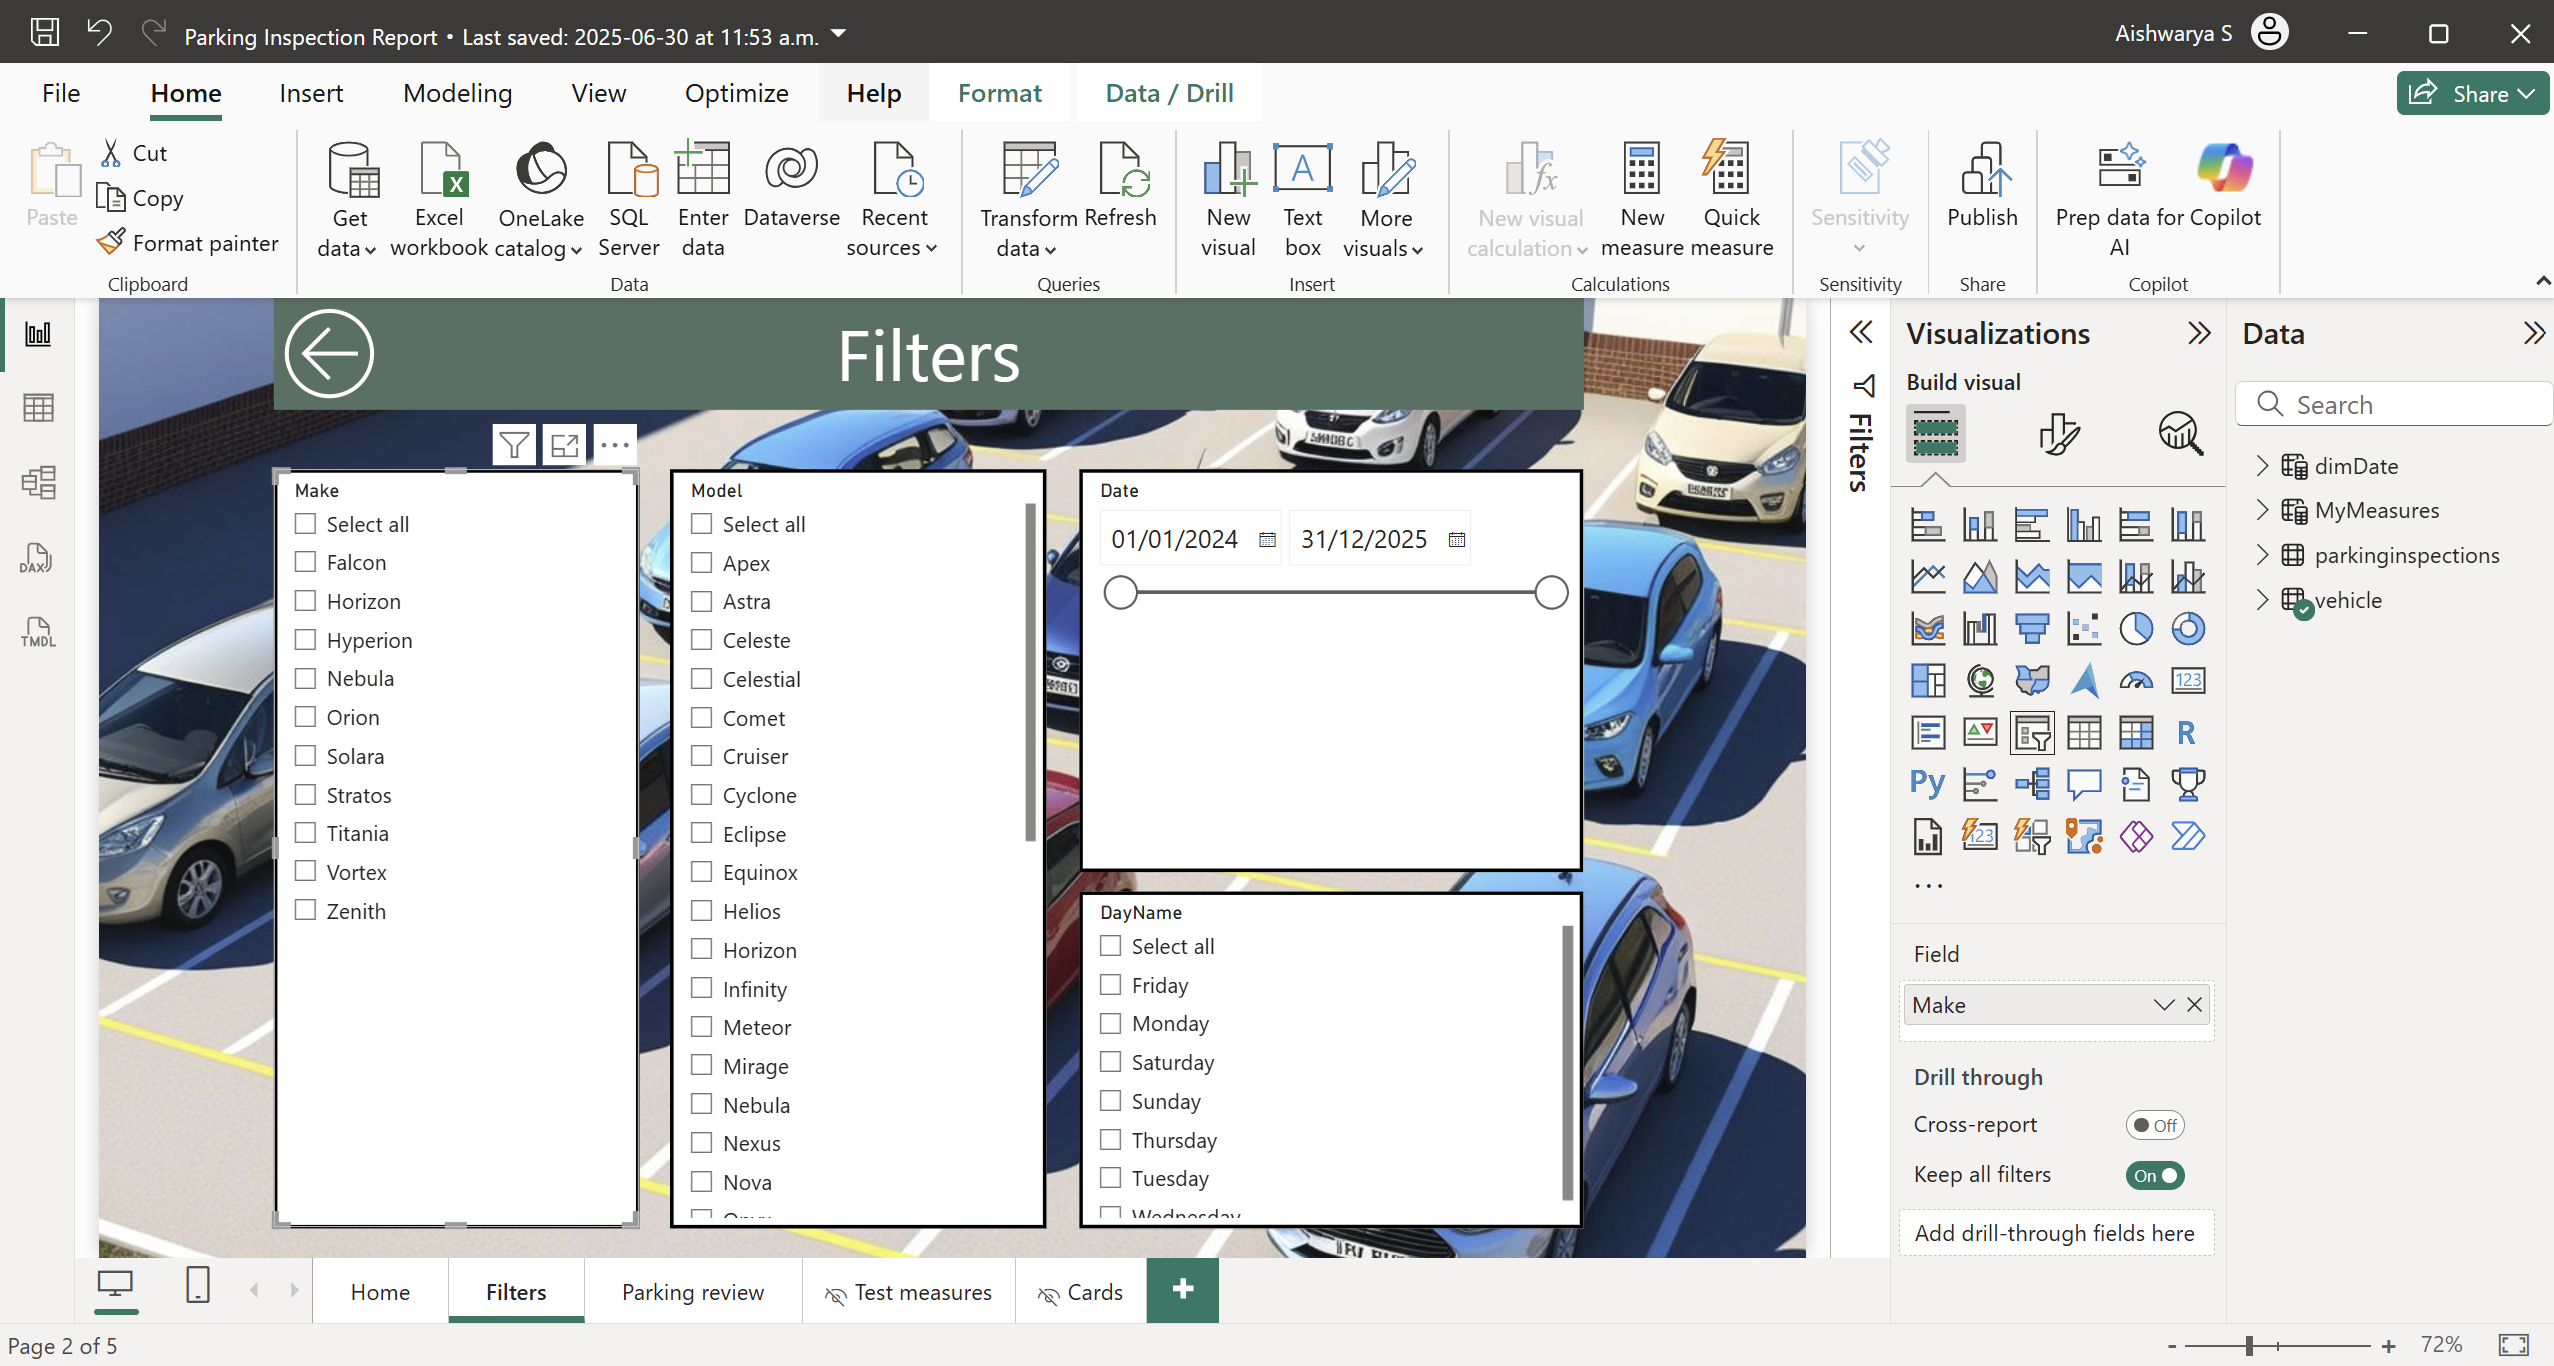

This screenshot's page, from the dashboard's own definition file:
{"tool":"powerbi","page":{"name":"Filters","canvas":[1280,720],"ordinal":1},"visuals":[{"type":"textbox","box":[130.4,0,982.2,83.8],"z":0},{"type":"actionButton","box":[130.4,0,99.8,83.8],"z":1000},{"type":"slicer","fields":{"Values":["vehicle.Make"]},"box":[130.4,127.8,274.2,569.6],"z":2000},{"type":"slicer","fields":{"Values":["vehicle.Model"]},"box":[428.5,127.8,282.1,569.6],"z":3000},{"type":"slicer","fields":{"Values":["dimDate.Date"]},"box":[734.6,127.8,378,302.1],"z":4000},{"type":"slicer","fields":{"Values":["dimDate.DayName"]},"box":[734.6,444.5,378,252.9],"z":5000}]}

Visuals, with their boxes on the page's 1280x720 design canvas (x1, y1, x2, y2). These are canvas units, not pixel positions in the 2554x1366 screenshot, which may show the page scaled, cropped or inside an application window:
textbox: 130 0 1113 84
actionButton: 130 0 230 84
slicer - vehicle.Make: 130 128 405 697
slicer - vehicle.Model: 428 128 711 697
slicer - dimDate.Date: 735 128 1113 430
slicer - dimDate.DayName: 735 444 1113 697
